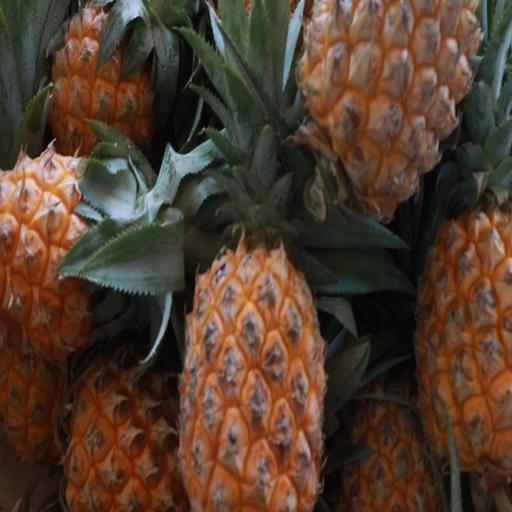Pineapple - v8 v1: (292, 0, 486, 257), (175, 193, 331, 512), (408, 151, 512, 512), (0, 140, 146, 367), (55, 334, 205, 512), (43, 0, 164, 191)
